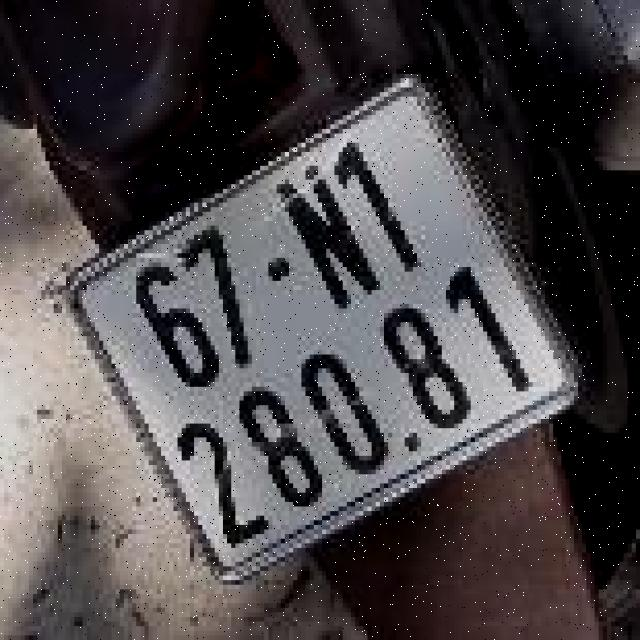0: (286, 338, 402, 494)
1: (422, 248, 555, 416), (318, 128, 440, 294)
2: (156, 406, 283, 563)
6: (114, 248, 235, 412)
7: (165, 213, 281, 386)
8: (362, 287, 496, 448), (219, 368, 343, 533)
N: (264, 157, 396, 332)
